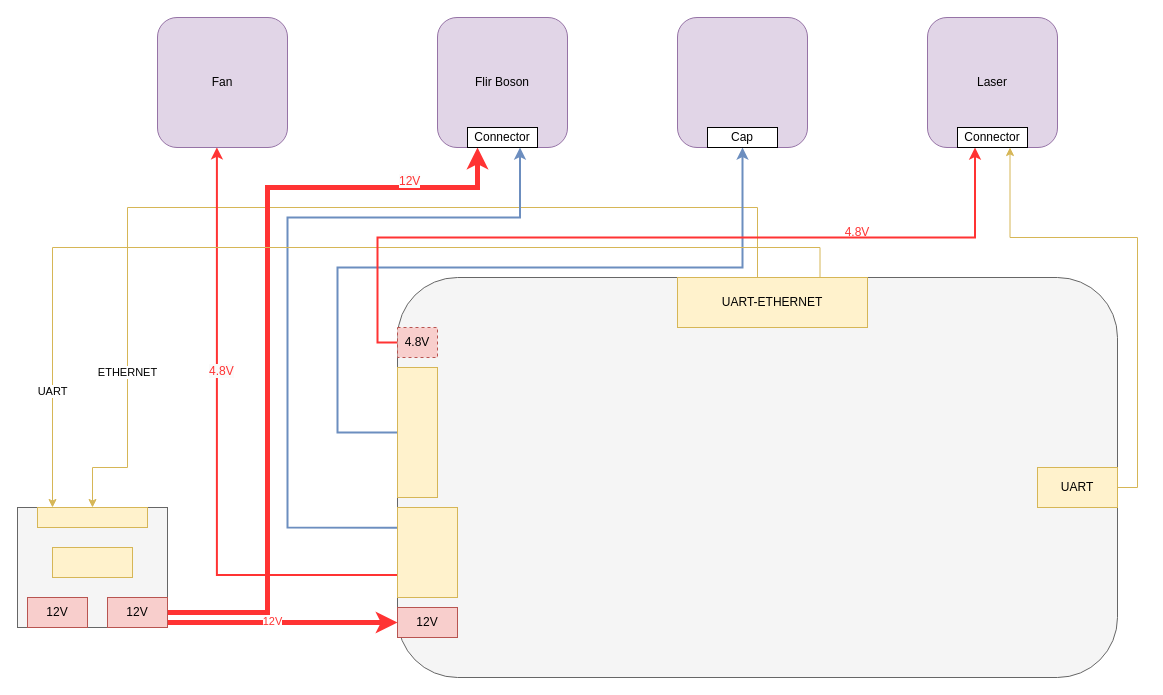
Some shapes in this 1163 by 695 pixel diagram are drawn without their labels. The shapes that lost their labels are listed below. From the top down, each one's box as (x1, y1, x2, y2) in pixels, then its label:
(676, 16, 808, 148): Camera 9500
(396, 366, 438, 498): cap 9500
(396, 276, 1118, 678): Jetson
(36, 506, 148, 528): Ethernet & Uart
(52, 546, 132, 578): Gimbal
(396, 506, 458, 598): A-IN
